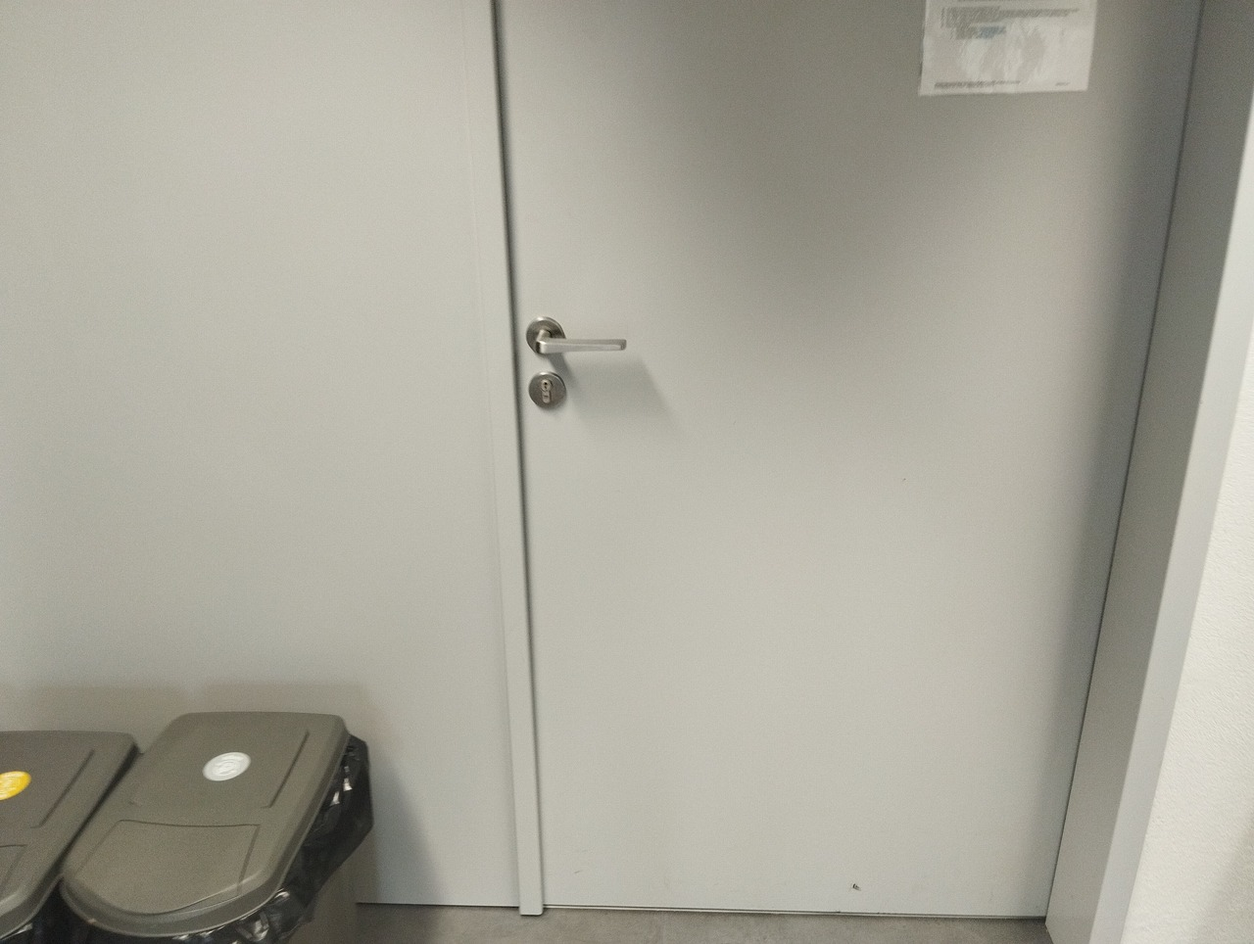Door-handle: (523, 315, 630, 358)
